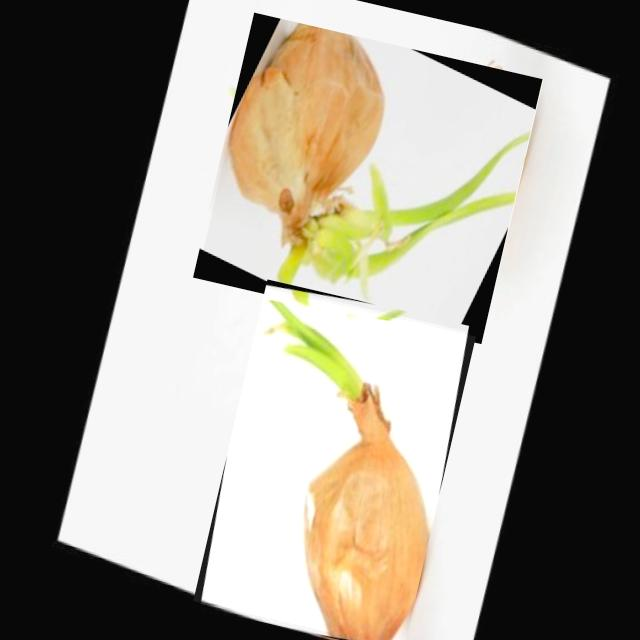sprouting: (228, 22, 530, 293), (264, 288, 428, 640)
